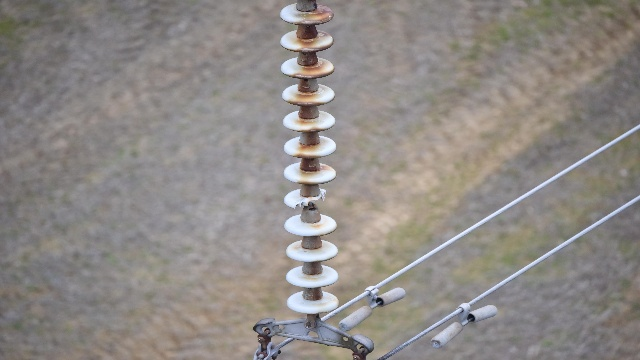broken_local: (291, 187, 329, 209)
insulator_unspecified: (276, 5, 340, 316)
pollution_flashover_local: (294, 58, 324, 80), (295, 7, 332, 24), (301, 28, 327, 43), (297, 45, 322, 52)
